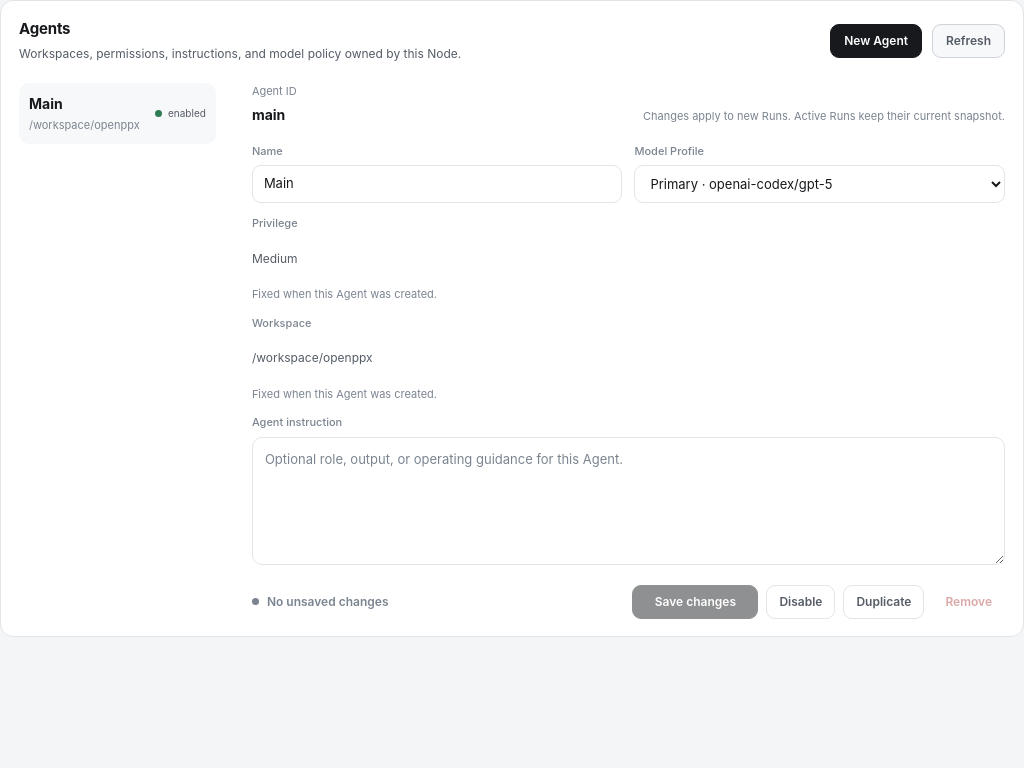
AgentSettings › makes pending name changes and their save result explicit
Expected: the text "Fixed when this Agent was created." is shown 2 times, [252,287,437,301]; [252,387,437,401]
Expected: the text "No unsaved changes" is shown, [267,593,388,611]
Replace the text in the field labelled "Name" with "Medium" at (437, 184), box [252,165,622,203]
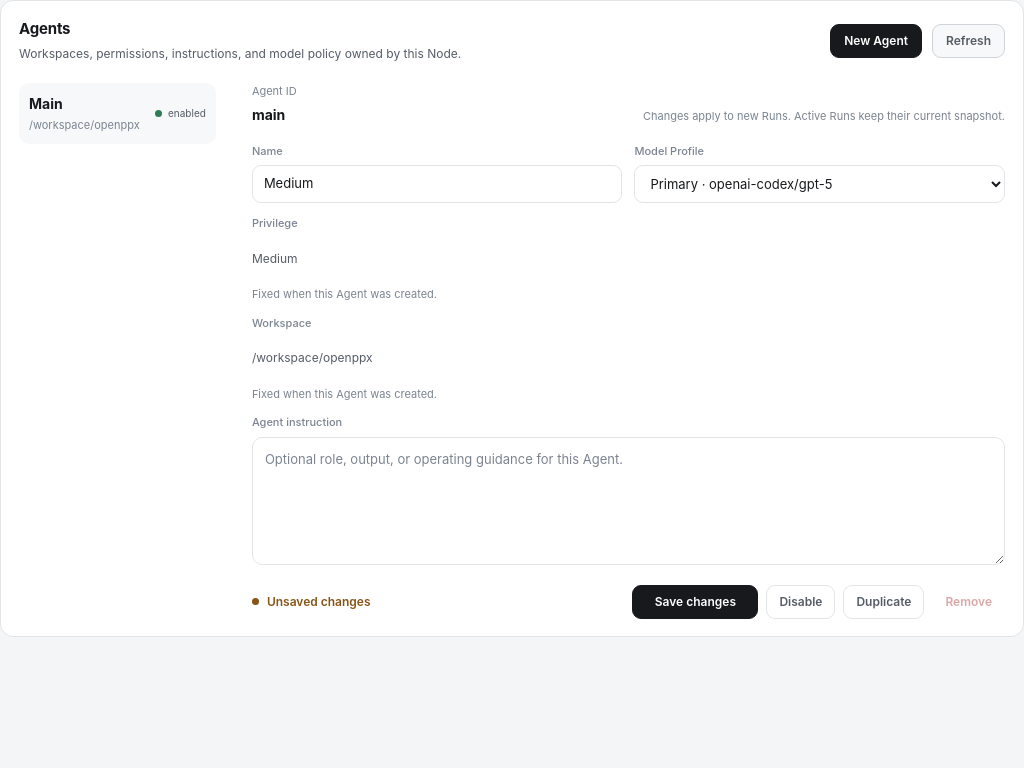
Expected: the text "Unsaved changes" is shown, [267,593,371,611]
Now the button "Save changes" is enabled
Click the button "Save changes" at (695, 602), box [632,585,758,619]
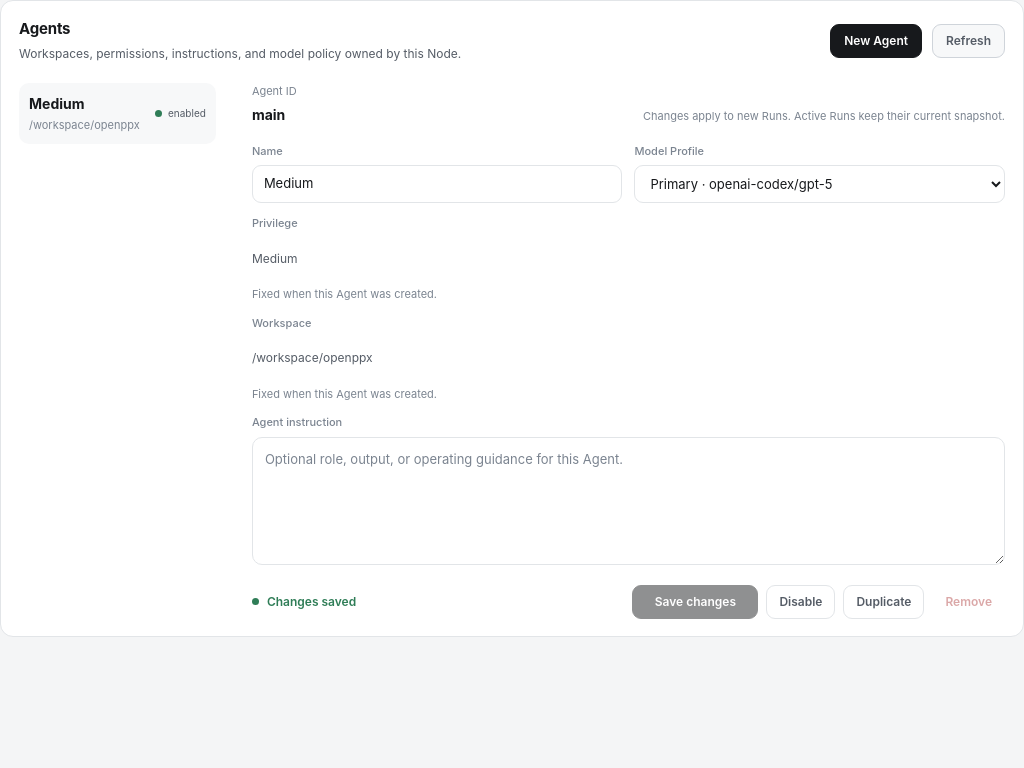
Now the text "Changes saved" is shown, box [267,593,356,611]
Now the button "Save changes" is disabled, box [632,585,758,619]
